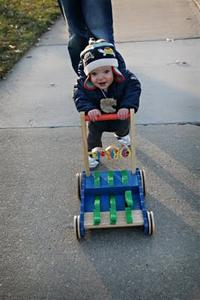person: (73, 37, 143, 172)
